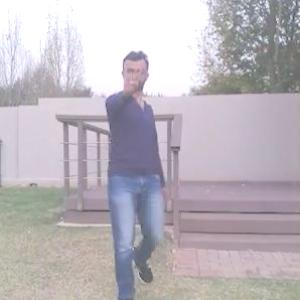takeoff-hand: (120, 63, 153, 106)
